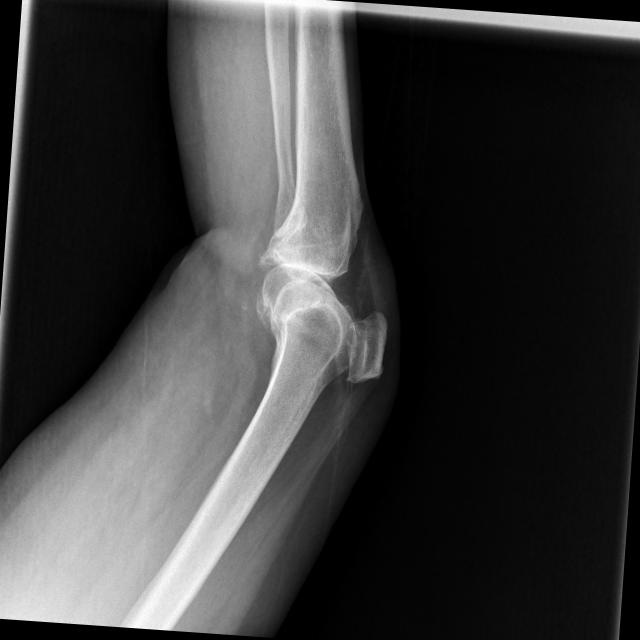Knee: (236, 202, 396, 392)
